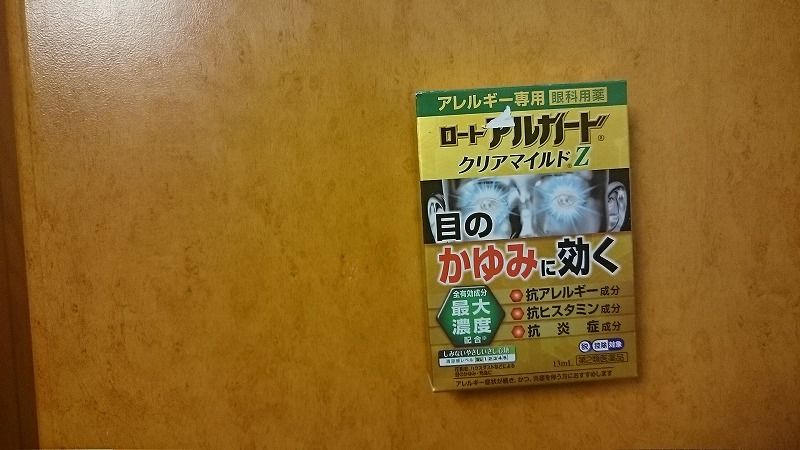C: (406, 71, 649, 392)
